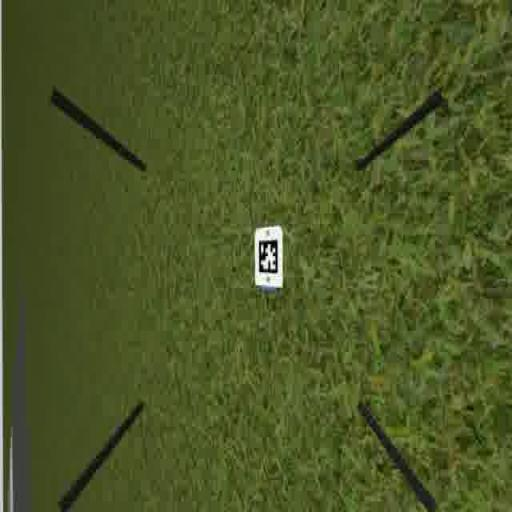UGV: (252, 221, 287, 296)
